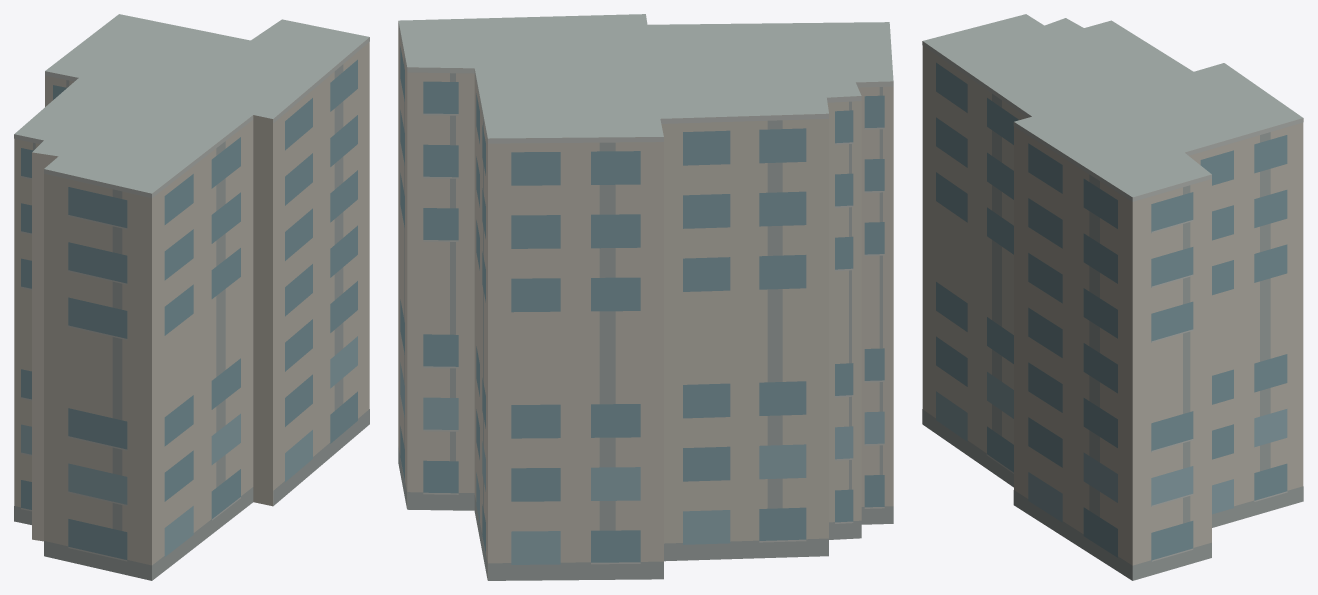
The model's file is survey-upis-32927068.glb.
The picture shows the model from 3 angles, left to right: view 1: azimuth 30°, elevation 25°; view 2: azimuth 150°, elevation 25°; view 3: azimuth 270°, elevation 25°; orthographic projection. The views are drawn at different scales.
Visible parts, largest first — view 1: survey-upis-32927068.tmp; view 2: survey-upis-32927068.tmp; view 3: survey-upis-32927068.tmp.
Part boxes in pixels (x1,y1,x2,y2): survey-upis-32927068.tmp: (14,14,369,580); survey-upis-32927068.tmp: (398,14,893,580); survey-upis-32927068.tmp: (922,14,1303,580).
Bounding box in the file's own units: 21.25 × 20.7 × 18.65.
